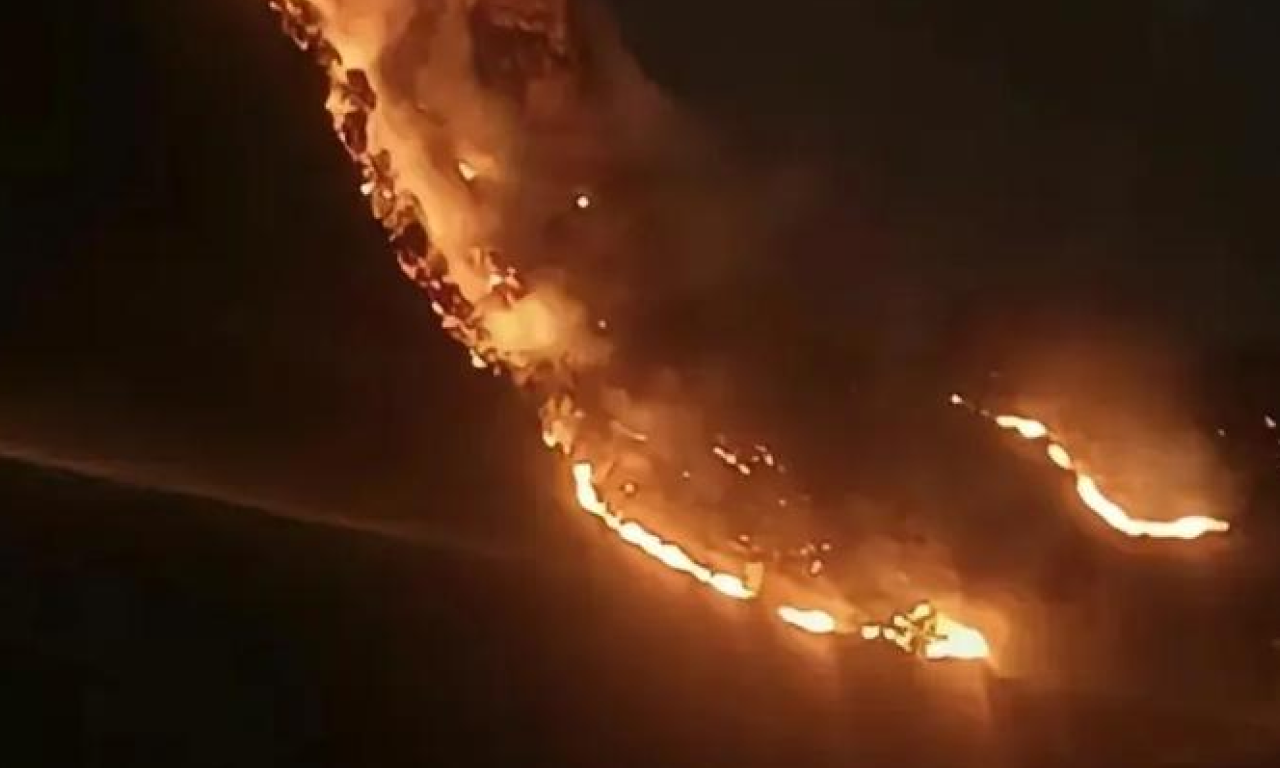fire: (260, 10, 1237, 669)
